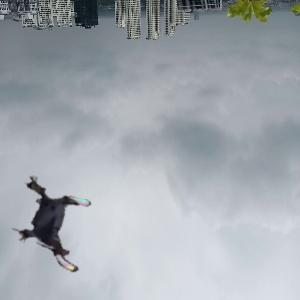drone: (7, 178, 100, 271)
